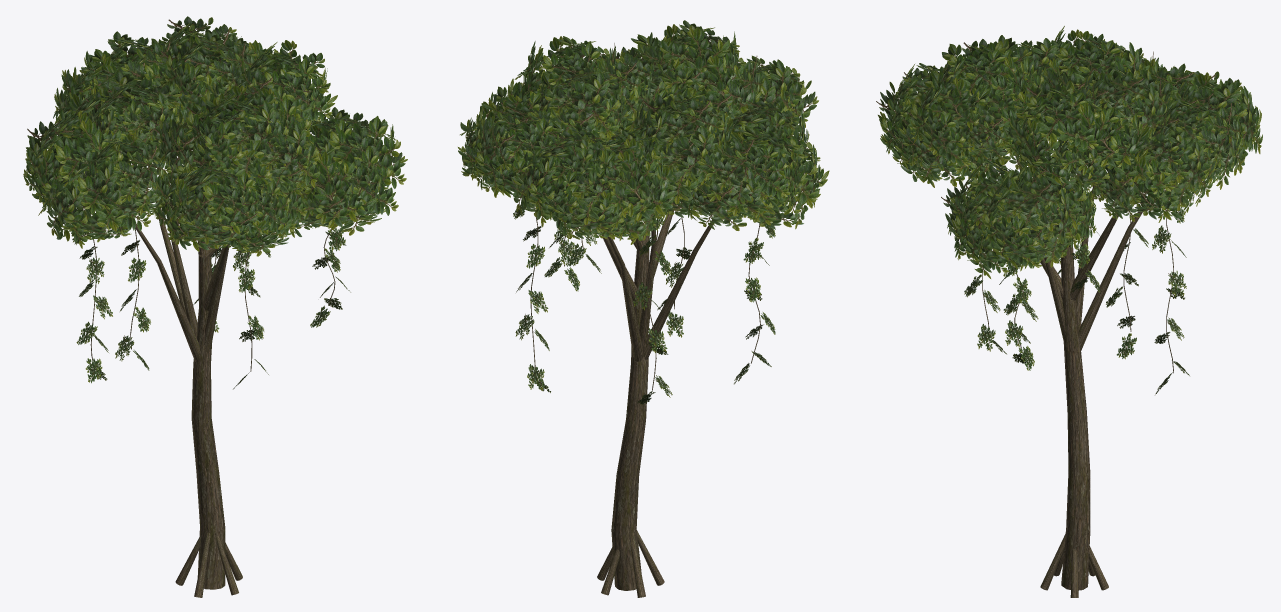
The model's file is tree_02.glb.
3 views of the same model, side by side, from view 1: azimuth 30°, elevation 25°; view 2: azimuth 150°, elevation 25°; view 3: azimuth 270°, elevation 25° (orthographic).
Parts seen in each view (by area): view 1: tree_02; view 2: tree_02; view 3: tree_02.
Boxes of the visible parts, left/top/right/bottom form: tree_02: left=23, top=16, right=407, bottom=597; tree_02: left=458, top=20, right=829, bottom=597; tree_02: left=876, top=26, right=1262, bottom=597.
Size of the model in its own units: 8.97 by 12.59 by 8.56.
Materials: 2 (2 with a texture image).
